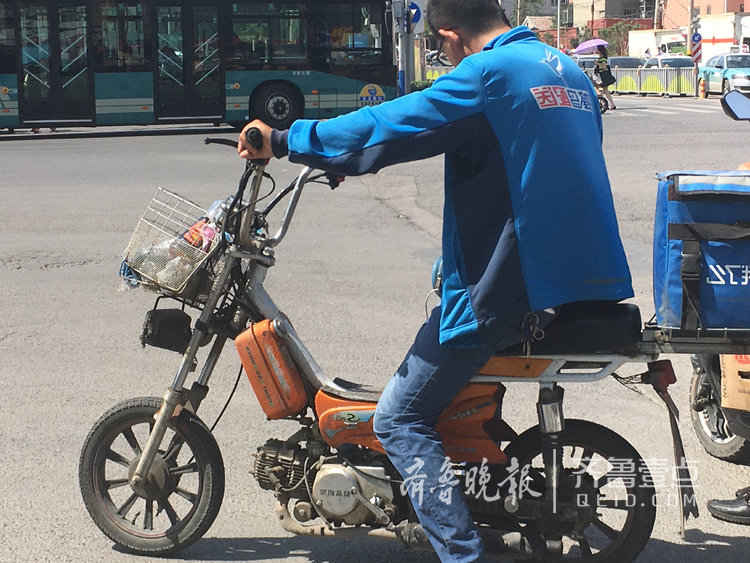电动车: (74, 123, 750, 549)
